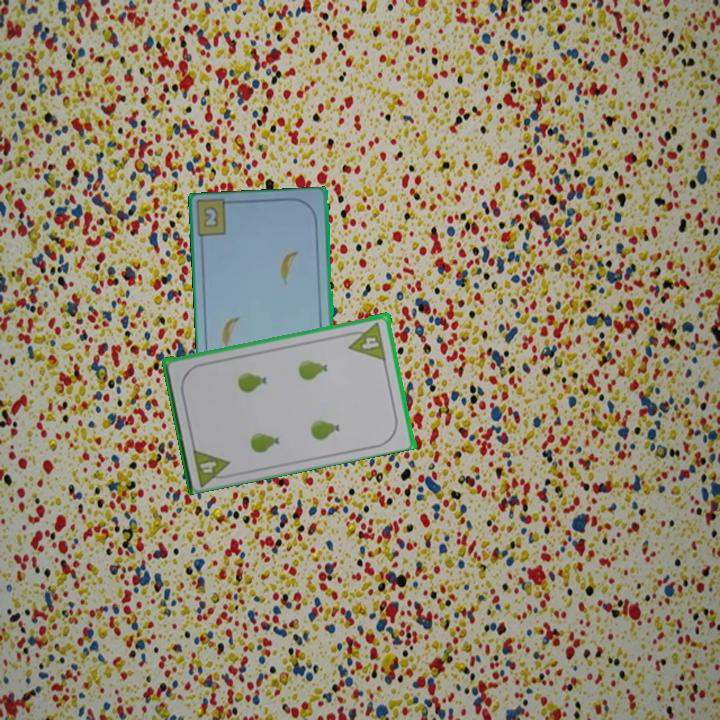2b: (200, 203, 221, 231)
4p: (344, 318, 389, 363), (189, 443, 235, 487)
